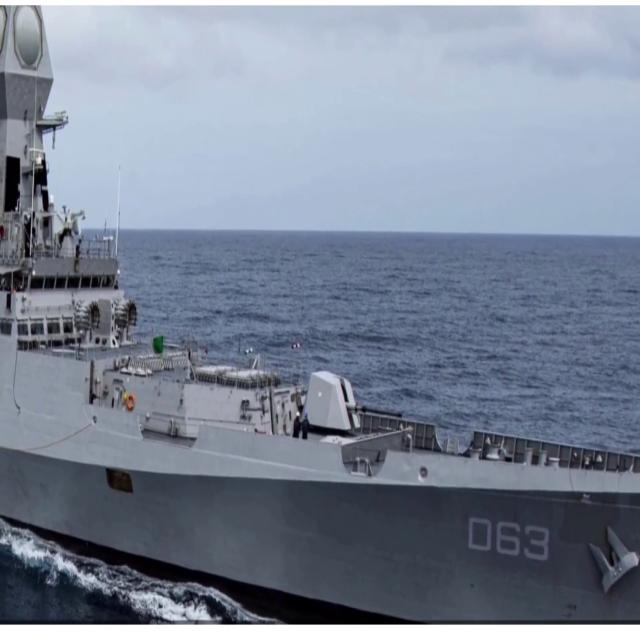OCR: (465, 511, 551, 568)
